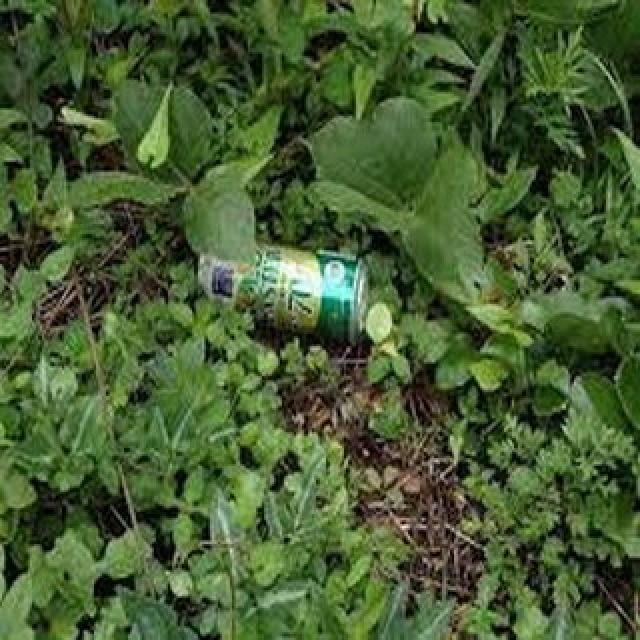can: (199, 226, 373, 346)
